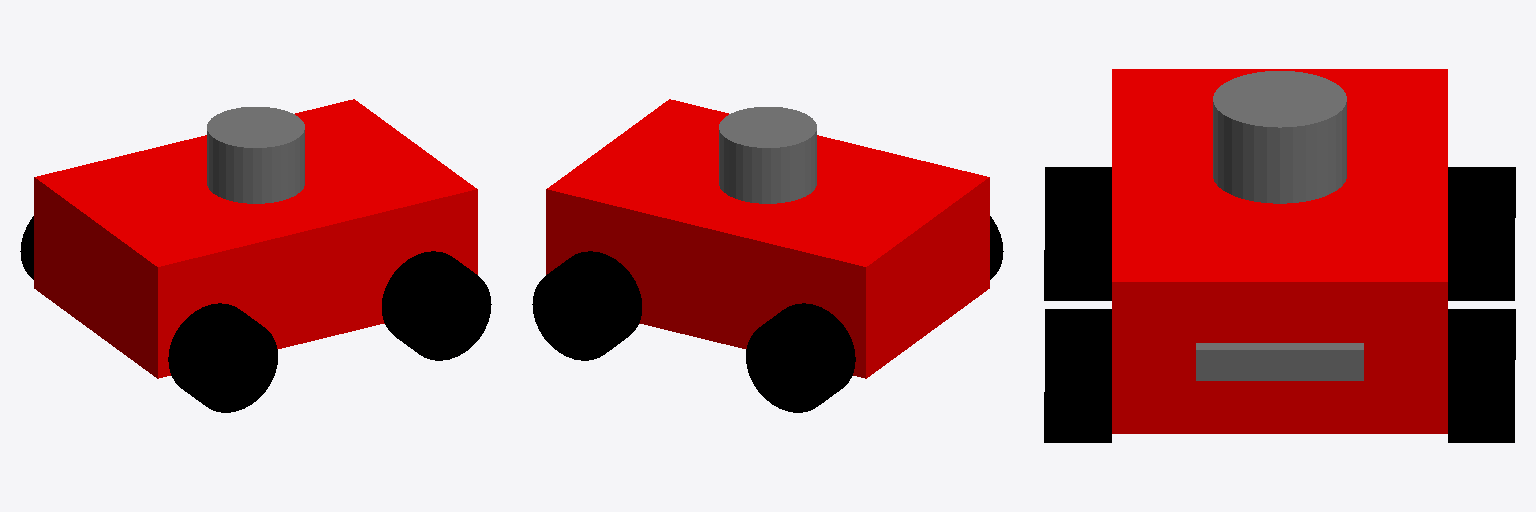
The robot description file, URDF, robot "robot":
<?xml version="1.0"?>
<robot name="robot" xmlns:xacro="http://ros.org/wiki/xacro">

    <!--#########-->
    <!-- PLUGINS -->
    <!--#########-->
	<webots>

        <plugin type="mecanum_robot_sim.mecanum_robot_driver.MecanumRobotDriver"/>

		<device reference="lidar" type="Lidar">
            <ros>
                <enabled>true</enabled>
                <updateRate>10</updateRate>
                <topicName>/scan</topicName>
                <alwaysOn>true</alwaysOn>
                <frameName>lidar</frameName>
            </ros>
        </device>

        <plugin type="webots_ros2_driver::Ros2IMU">
            <enabled>True</enabled>
            <topicName>/imu/data</topicName>
            <updateRate>10</updateRate>
            <alwaysOn>True</alwaysOn>
            <frameName>imu</frameName>
            <inertialUnitName>imu</inertialUnitName>
            <gyroName>gyro</gyroName>
            <accelerometerName>accelerometer</accelerometerName>
        </plugin>

        <device reference="camera" type="Camera">
            <ros>
                <enabled>true</enabled>
                <updateRate>10</updateRate>
                <topicName>/camera</topicName>
                <alwaysOn>true</alwaysOn>
                <frameName>camera</frameName>
            </ros>
        </device>

        <device reference="range_finder" type="RangeFinder">
            <ros>
                <enabled>true</enabled>
                <updateRate>10</updateRate>
                <topicName>/range_finder</topicName>
                <alwaysOn>true</alwaysOn>
                <frameName>camera</frameName>
            </ros>
        </device>

    </webots>

    <!--########-->
    <!-- COLORS -->
    <!--########-->
    <material name="red">
        <color rgba="1.0 0.0 0.0 1.0"/>
    </material>

    <material name="black">
        <color rgba="0.0 0.0 0.0 1.0"/>
    </material>

    <material name="gray">
        <color rgba="0.5 0.5 0.5 1.0"/>
    </material>

    <!--######-->
    <!-- BODY -->
    <!--######-->
	<link name="base_link">
		<visual>
            <geometry>
                <box size="0.3 0.2 0.1"/>
            </geometry>
            <material name="red"/>
		</visual>
		<collision>
            <geometry>
                <box size="0.3 0.2 0.1"/>
            </geometry>
		</collision>
	</link>

    <!--########-->
    <!-- WHEELS -->
    <!--########-->

    <!-- Motor 1 -->
    <joint name="motor1" type="continuous">
		<parent link="base_link"/>
		<child link="wheel1"/>
		<axis xyz="0 0 -1"/>
		<limit effort="10" velocity="20"/>
		<origin xyz="0.1 0.12 -0.035" rpy="1.57 0 0"/>
	</joint>
	<link name="wheel1">
		<visual>
		    <origin xyz="0 0 0" rpy="0 0 0"/>
            <geometry>
                <cylinder radius="0.04" length="0.04"/>
            </geometry>
            <material name="black"/>
		</visual>
		<collision>
            <origin xyz="0 0 0" rpy="0 0 0"/>
            <geometry>
                <cylinder radius="0.04" length="0.04"/>
            </geometry>
		</collision>
	</link>

    <!-- Motor 2 -->
	<joint name="motor2" type="continuous">
		<parent link="base_link"/>
		<child link="wheel2"/>
		<axis xyz="0 0 -1"/>
		<limit effort="10" velocity="20"/>
		<origin xyz="0.1 -0.12 -0.035" rpy="1.57 0 0"/>
	</joint>
	<link name="wheel2">
		<visual>
            <origin xyz="0 0 0" rpy="0 0 0"/>
            <geometry>
                <cylinder radius="0.04" length="0.04"/>
            </geometry>
            <material name="black"/>
		</visual>
		<collision>
            <origin xyz="0 0 0" rpy="0 0 0"/>
            <geometry>
                <cylinder radius="0.04" length="0.04"/>
            </geometry>
		</collision>
	</link>

    <!-- Motor 3 -->
	<joint name="motor3" type="continuous">
		<parent link="base_link"/>
		<child link="wheel3"/>
		<axis xyz="0 0 -1"/>
		<limit effort="10" velocity="20"/>
		<origin xyz="-0.1 0.12 -0.035" rpy="1.57 0 0"/>
	</joint>
	<link name="wheel3">
		<visual>
            <origin xyz="0 0 0" rpy="0 0 0"/>
            <geometry>
                <cylinder radius="0.04" length="0.04"/>
            </geometry>
            <material name="black"/>
		</visual>
		<collision>
            <origin xyz="0 0 0" rpy="0 0 0"/>
            <geometry>
                <cylinder radius="0.04" length="0.04"/>
            </geometry>
		</collision>
	</link>

    <!-- Motor 4 -->
    <joint name="motor4" type="continuous">
		<parent link="base_link"/>
		<child link="wheel4"/>
		<axis xyz="0 0 -1"/>
		<limit effort="10" velocity="20"/>
		<origin xyz="-0.1 -0.12 -0.035" rpy="1.57 0 0"/>
	</joint>
    <link name="wheel4">
		<visual>
            <origin xyz="0 0 0" rpy="0 0 0"/>
            <geometry>
                <cylinder radius="0.04" length="0.04"/>
            </geometry>
            <material name="black"/>
		</visual>
		<collision>
            <origin xyz="0 0 0" rpy="0 0 0"/>
            <geometry>
                <cylinder radius="0.04" length="0.04"/>
            </geometry>
		</collision>
	</link>

    <!--#########-->
    <!-- SENSORS -->
    <!--#########-->

    <!-- Lidar -->
	<joint name="base_link_lidar_joint" type="fixed">
		<parent link="base_link"/>
		<child link="lidar"/>
		<origin xyz="0 0 0.075" rpy="0 0 0"/>
	</joint>
	<link name="lidar">
		<visual>
            <origin xyz="0 0 0" rpy="0 0 0"/>
            <geometry>
                <cylinder radius="0.04" length="0.05"/>
            </geometry>
            <material name="gray"/>
		</visual>
		<collision>
            <origin xyz="0 0 0" rpy="0 0 0"/>
            <geometry>
                <cylinder radius="0.04" length="0.05"/>
            </geometry>
		</collision>
	</link>

    <!-- IMU -->
    <joint name="base_link_to_imu" type="fixed">
        <parent link="base_link"/>
        <child link="imu"/>
        <origin xyz="0 0 0" rpy="0 0 0"/>
    </joint>
    <link name="imu">
        <visual>
            <origin xyz="0 0 0" rpy="0 0 0"/>
            <geometry>
                <box size="0.01 0.01 0.01"/>
            </geometry>
            <material name="gray"/>
        </visual>
        <collision>
            <origin xyz="0 0 0" rpy="0 0 0"/>
            <geometry>
                <box size="0.01 0.01 0.01"/>
            </geometry>
        </collision>
    </link>

    <!-- Camera -->
    <joint name="base_link_to_camera" type="fixed">
        <parent link="base_link"/>
        <child link="camera"/>
        <origin xyz="0.15 0 0" rpy="0 0 0"/>
    </joint>
    <link name="camera">
        <visual>
            <origin xyz="0 0 0" rpy="0 0 0"/>
            <geometry>
                <box size="0.02 0.1 0.02"/>
            </geometry>
            <material name="gray"/>
        </visual>
        <collision>
            <origin xyz="0 0 0" rpy="0 0 0"/>
            <geometry>
                <box size="0.02 0.1 0.02"/>
            </geometry>
        </collision>
    </link>
</robot>

--- Facts derived from the render (not from the file) ---
The picture shows the robot from 3 angles, left to right: view 1: azimuth 30°, elevation 25°; view 2: azimuth 150°, elevation 25°; view 3: azimuth 270°, elevation 25°; orthographic projection.
Robot: robot — 8 links, 7 joints (4 continuous, 3 fixed); root link base_link; default pose: all joints at 0.
Links seen in each view (by area): view 1: base_link, wheel4, wheel2, lidar, wheel3; view 2: base_link, wheel3, wheel1, lidar, wheel4; view 3: base_link, lidar, wheel1, wheel2, wheel3, wheel4, camera.
Link boxes in pixels (left/top/right/bottom): base_link: left=34, top=99, right=477, bottom=378; wheel4: left=168, top=303, right=277, bottom=412; wheel2: left=382, top=251, right=491, bottom=360; lidar: left=207, top=107, right=304, bottom=203; wheel3: left=20, top=216, right=33, bottom=279; base_link: left=546, top=99, right=989, bottom=378; wheel3: left=746, top=303, right=855, bottom=412; wheel1: left=532, top=251, right=641, bottom=360; lidar: left=719, top=107, right=816, bottom=203; wheel4: left=990, top=216, right=1003, bottom=279; base_link: left=1112, top=69, right=1447, bottom=433; lidar: left=1213, top=71, right=1346, bottom=203; wheel1: left=1448, top=309, right=1515, bottom=442; wheel2: left=1044, top=309, right=1111, bottom=442; wheel3: left=1448, top=167, right=1515, bottom=300; wheel4: left=1044, top=167, right=1111, bottom=300; camera: left=1196, top=343, right=1363, bottom=380.
Size in the robot's own frame: 0.31 by 0.2801 by 0.175 metres.
Geometry: primitives only (box / cylinder / sphere), no mesh files.